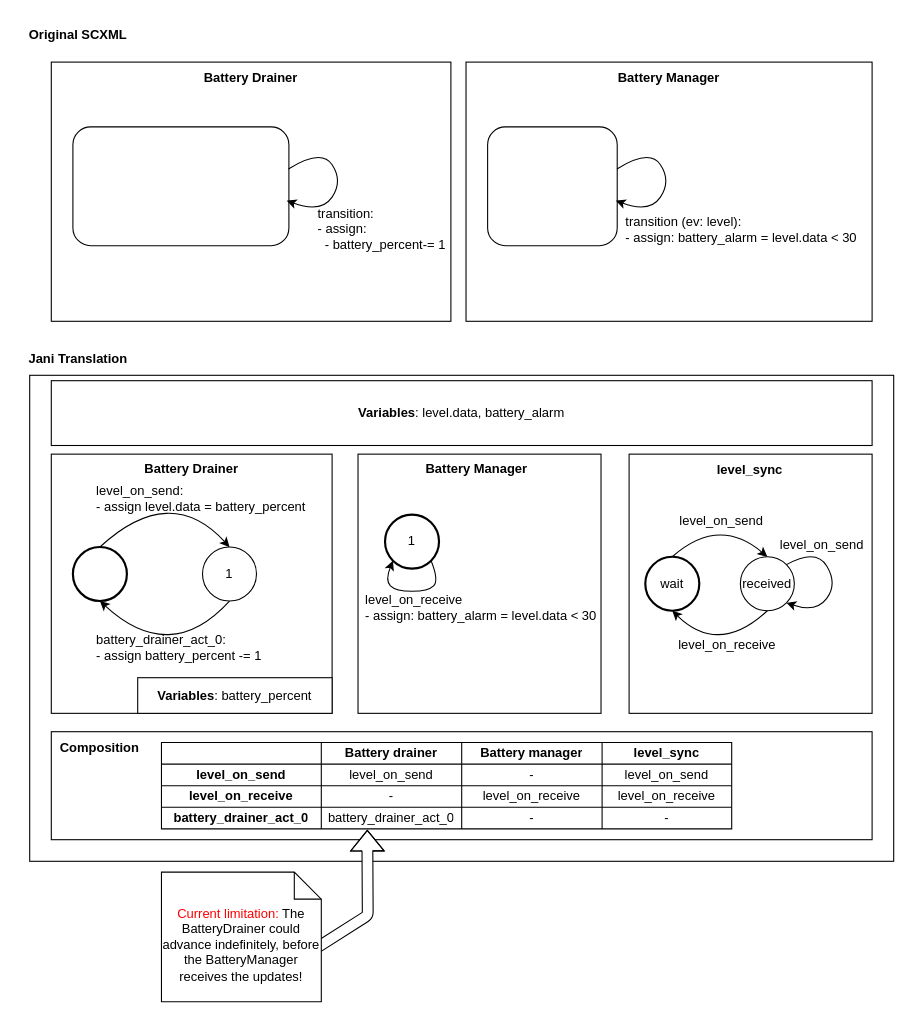
Image size: 913x1021. Some labels were removed from this diagram. Here are the shapes that lost their labels. From the top down, the box of each, then its label:
(72, 126, 289, 246): State 1: - onentry: - send level - level.data = battery_percent
(487, 126, 617, 246): State: 1
(71, 545, 127, 602): 1_entry
